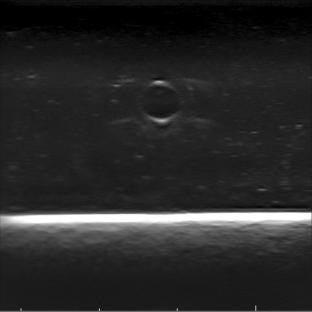vessel: (136, 78, 186, 125)
